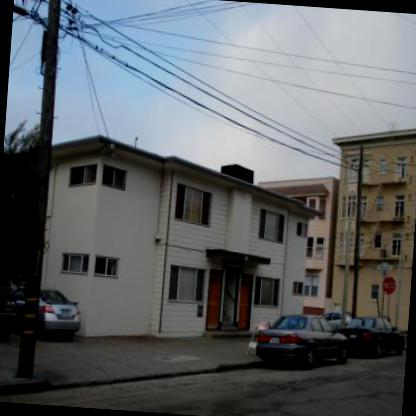car: (254, 309, 353, 373), (6, 284, 85, 344), (337, 314, 408, 360), (0, 259, 23, 346), (320, 310, 353, 330)
